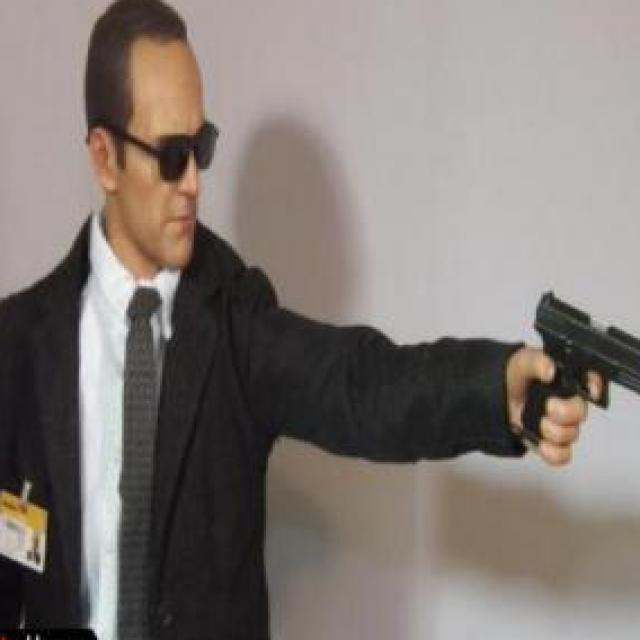pistol: (525, 286, 640, 458)
